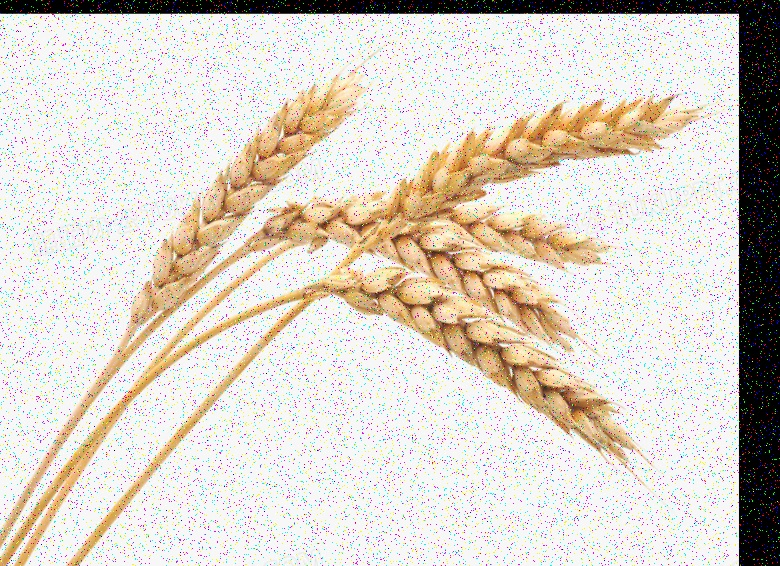wheat: (111, 70, 355, 355), (334, 84, 703, 270), (304, 271, 639, 466)
